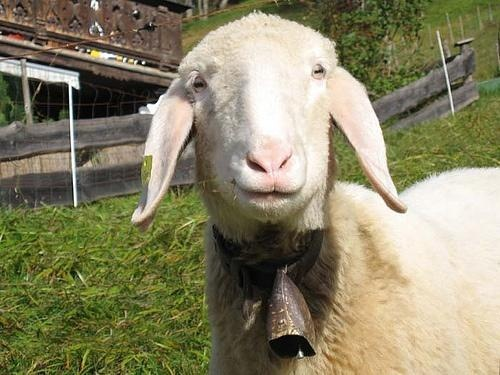sheep: (129, 12, 500, 374)
